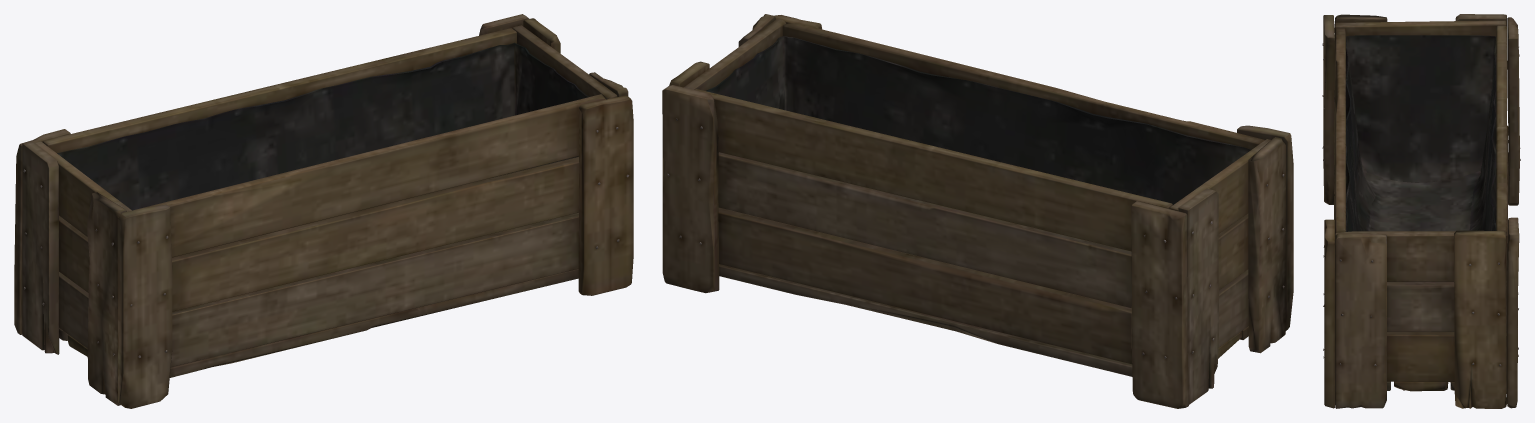
File: planter.glb
The picture shows the model from 3 angles, left to right: view 1: azimuth 30°, elevation 25°; view 2: azimuth 150°, elevation 25°; view 3: azimuth 270°, elevation 25°; orthographic projection. The views are drawn at different scales.
Visible parts, largest first — view 1: planter_box_02; view 2: planter_box_02; view 3: planter_box_02.
Boxes of the visible parts, x1,y1,x2,y2 form: planter_box_02: (14,14,633,408); planter_box_02: (662,14,1293,408); planter_box_02: (1322,14,1520,408).
Bounding box in the file's own units: 1.25 × 0.4534 × 0.4672.
1 material, 1 textured.
